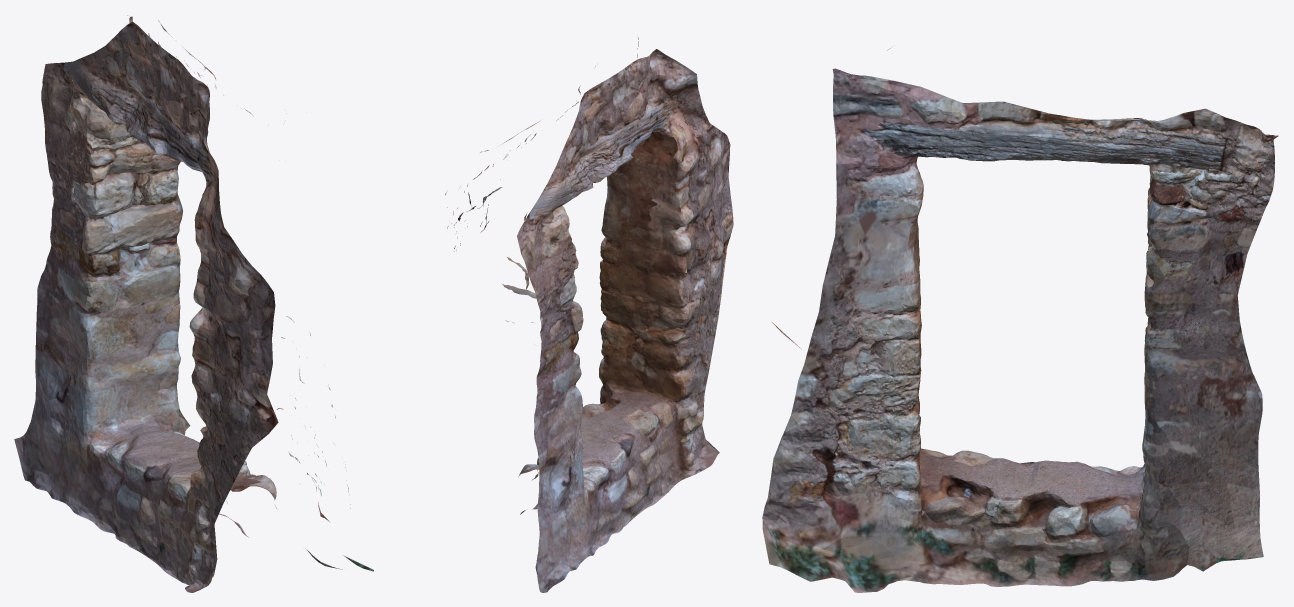
The model's file is S041_RoussillonGate.glb.
3 views of the same model, side by side, from view 1: azimuth 30°, elevation 25°; view 2: azimuth 150°, elevation 25°; view 3: azimuth 270°, elevation 25° (orthographic). The views are drawn at different scales.
Visible parts, largest first — view 1: Mesh 1; view 2: Mesh 1; view 3: Mesh 1.
Part boxes in pixels (<box>): Mesh 1: <box>14,15,373,592</box>; Mesh 1: <box>445,37,733,592</box>; Mesh 1: <box>762,48,1278,592</box>.
Size of the model in its own units: 0.6335 by 1.96 by 1.69.
Materials: 1 (1 with a texture image).
